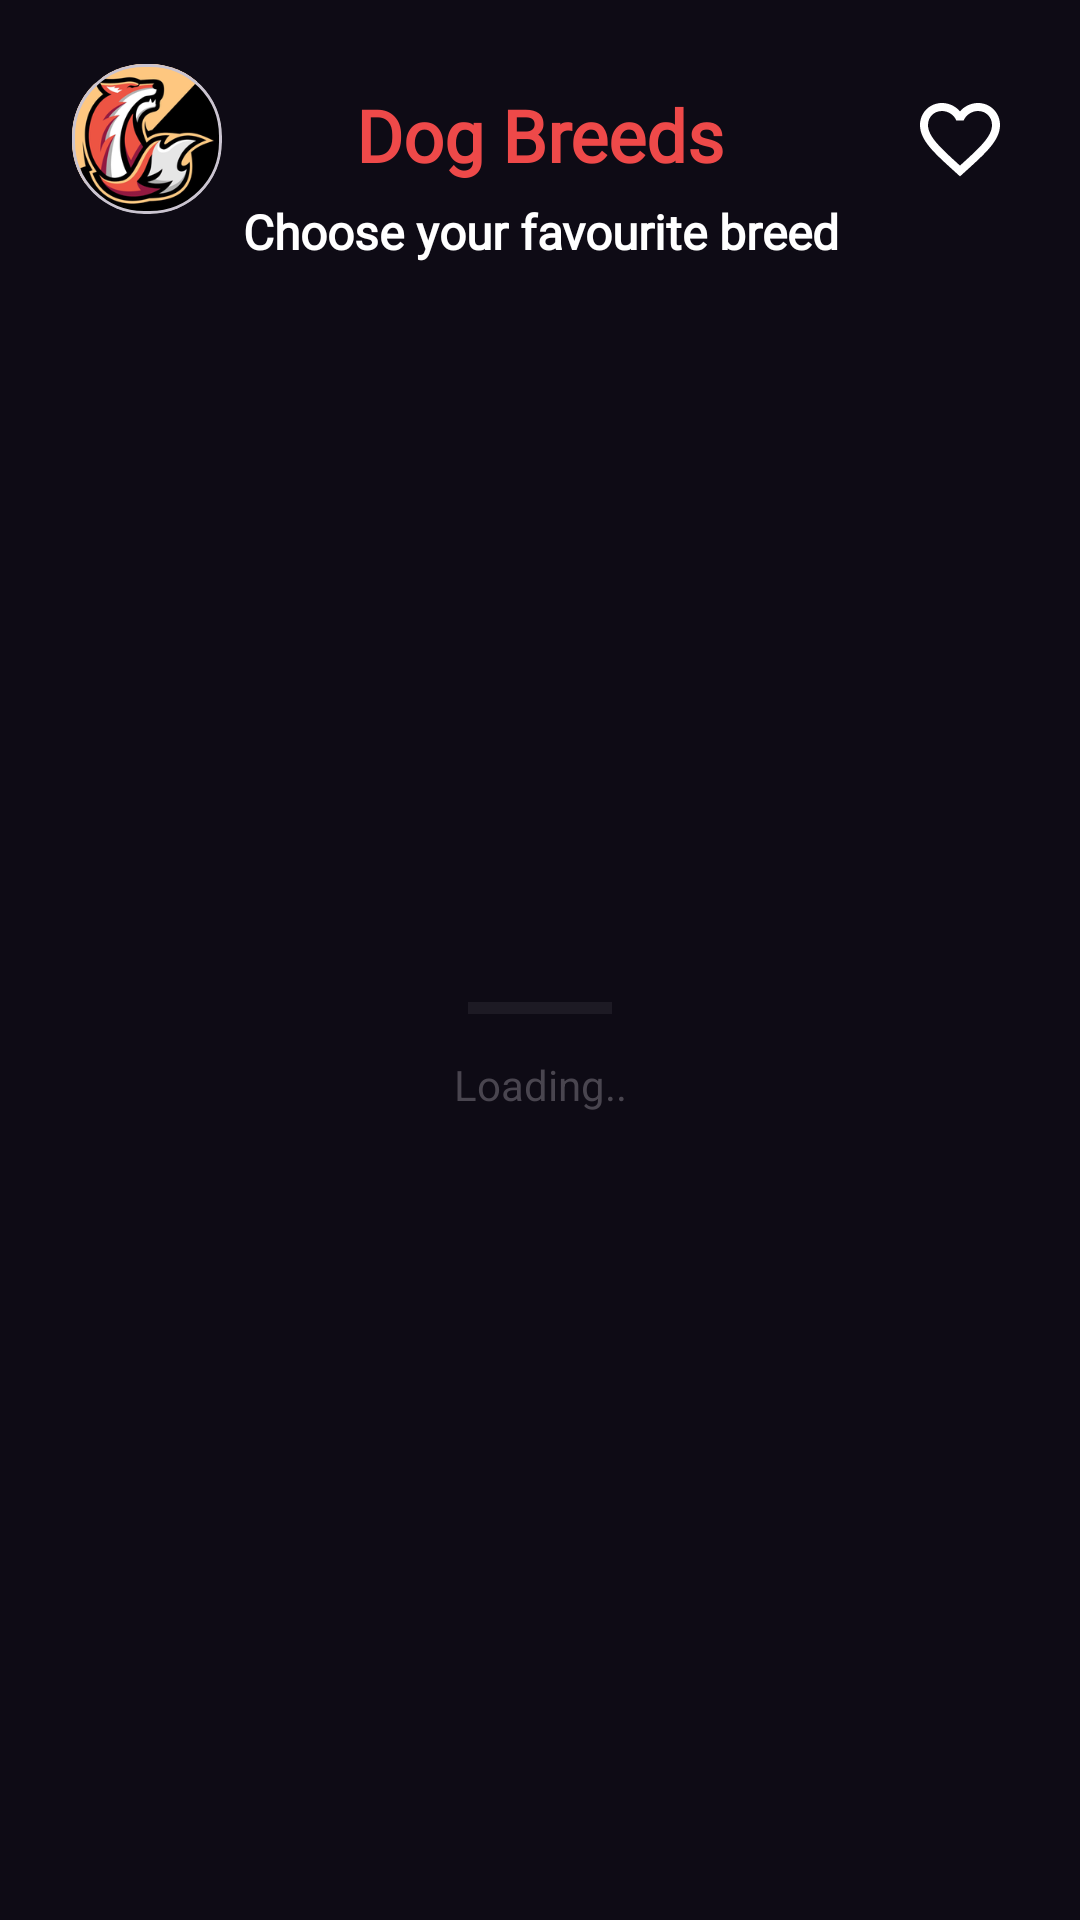

Icons on this 1080×1920 Android screen, each with the point to tap as (x=x, y=y):
heart empty: (x=960, y=139)
